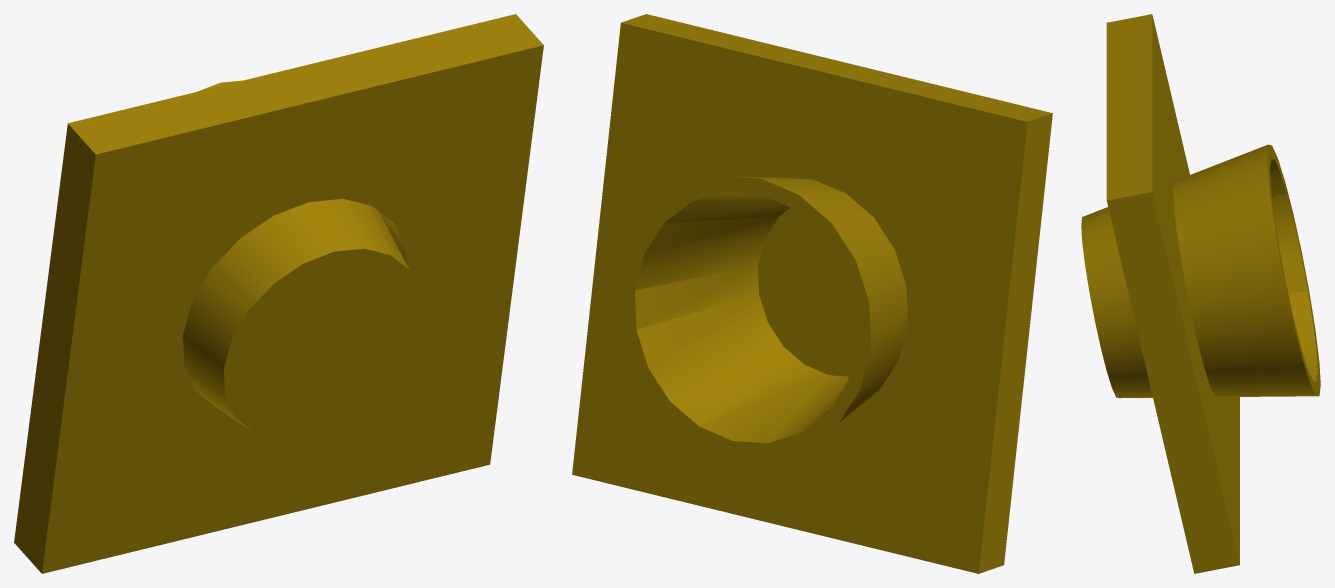
File: BucketToss_Proxy.fbx
3 renders of one model, left to right at view 1: azimuth 30°, elevation 25°; view 2: azimuth 150°, elevation 25°; view 3: azimuth 270°, elevation 25°, orthographic. The views are drawn at different scales.
Parts seen in each view (by area): view 1: BucketToss; view 2: BucketToss; view 3: BucketToss.
Part boxes in pixels (left/top/right/bottom): BucketToss: left=14, top=14, right=543, bottom=573; BucketToss: left=572, top=14, right=1052, bottom=573; BucketToss: left=1081, top=14, right=1320, bottom=573.
Size of the model in its own units: 100 by 100 by 56.9.
